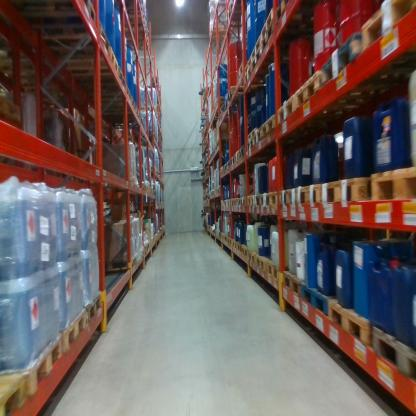pallet: (1, 331, 64, 400), (9, 22, 111, 64), (359, 1, 416, 69), (369, 315, 414, 386), (325, 30, 368, 93), (1, 1, 101, 28), (329, 298, 374, 352), (368, 158, 415, 208), (57, 45, 119, 75), (320, 174, 372, 208), (300, 279, 340, 322), (56, 309, 87, 361), (66, 62, 127, 88), (294, 68, 323, 115), (265, 25, 306, 58), (273, 2, 320, 28), (1, 374, 29, 414), (122, 26, 157, 57), (281, 266, 305, 300), (103, 254, 138, 277), (85, 85, 132, 102), (117, 5, 150, 28), (83, 292, 103, 328), (297, 179, 323, 206), (102, 93, 137, 113), (223, 1, 253, 24), (208, 25, 244, 44), (227, 85, 260, 104), (234, 59, 257, 86), (276, 94, 293, 130), (261, 110, 277, 145), (279, 183, 297, 210), (111, 103, 141, 119), (249, 35, 264, 66), (259, 9, 276, 36), (109, 117, 147, 129), (228, 0, 247, 21), (254, 47, 269, 72), (268, 260, 284, 283), (264, 188, 281, 207), (256, 250, 270, 273), (207, 112, 223, 129), (139, 102, 159, 115), (200, 88, 213, 104), (254, 123, 262, 149), (247, 246, 257, 266), (117, 179, 139, 188), (244, 125, 257, 140), (245, 136, 254, 157), (247, 191, 257, 209), (244, 67, 254, 85), (254, 191, 265, 207), (242, 55, 253, 71), (239, 142, 248, 161), (212, 107, 226, 117), (137, 246, 145, 262), (217, 138, 228, 149), (216, 97, 226, 109), (241, 241, 248, 258), (147, 185, 156, 198), (240, 193, 247, 209), (233, 152, 240, 165), (235, 241, 242, 254), (139, 184, 149, 193), (231, 195, 237, 209), (212, 142, 218, 156), (232, 238, 238, 252), (142, 244, 148, 257), (215, 227, 221, 239), (236, 195, 241, 209), (223, 162, 228, 175), (224, 197, 229, 209), (230, 156, 235, 168), (210, 225, 216, 235), (219, 197, 224, 208), (226, 235, 231, 246), (215, 186, 221, 195), (146, 240, 152, 249), (224, 231, 228, 244), (219, 166, 224, 176), (227, 197, 231, 209), (209, 149, 213, 161), (228, 159, 231, 170), (221, 232, 224, 240)
